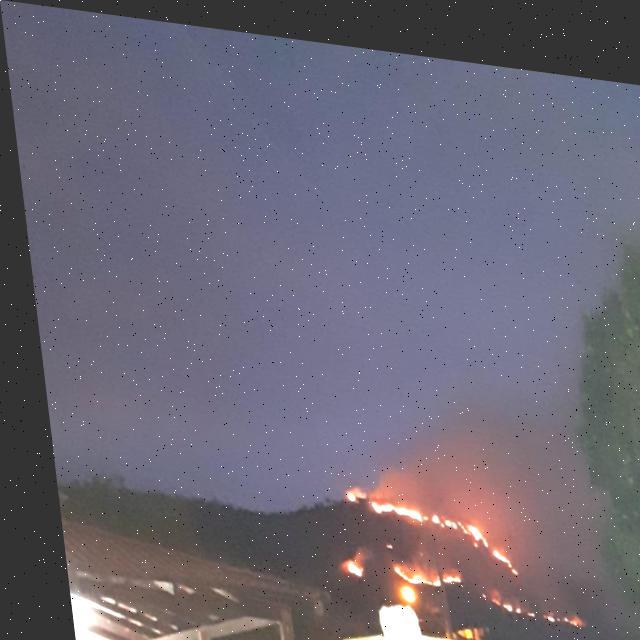Fire: (332, 473, 516, 567), (322, 532, 455, 582), (470, 577, 573, 618)
